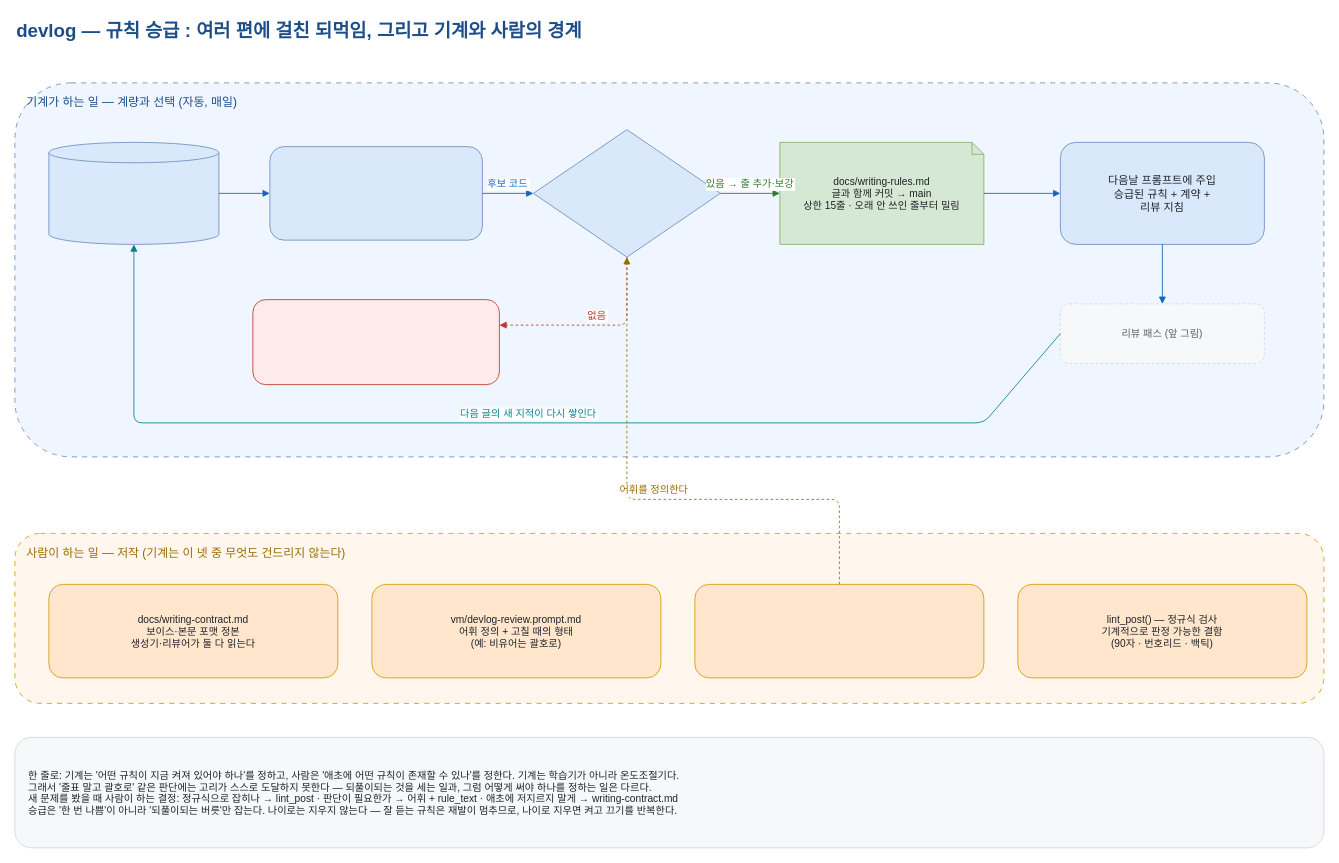
The diagram is 1339 pixels wide and 863 high, and some of its shapes have lost their labels. The centre of each missing label's shape, as x and y in pixels:
CRITIQUES_FILE JSONL · VM 비공개 (인용 원문은 repo에 안 간다): point (133, 193)
other:… → 막다른 길 로그엔 쌓이지만 영영 규칙이 못 된다 기계는 새 규칙을 지어낼 수 없다: point (375, 342)
promote_candidates 최근 7편 중 2편 이상 나온 코드 한 편에서 같은 코드는 1회로 접음: point (375, 193)
rule_text() — bash case 23개 승급될 수 있는 문장의 전부 여기 없는 코드는 승급 불가: point (839, 631)
rule_text(코드) 어휘에 있는 코드인가: point (626, 193)
